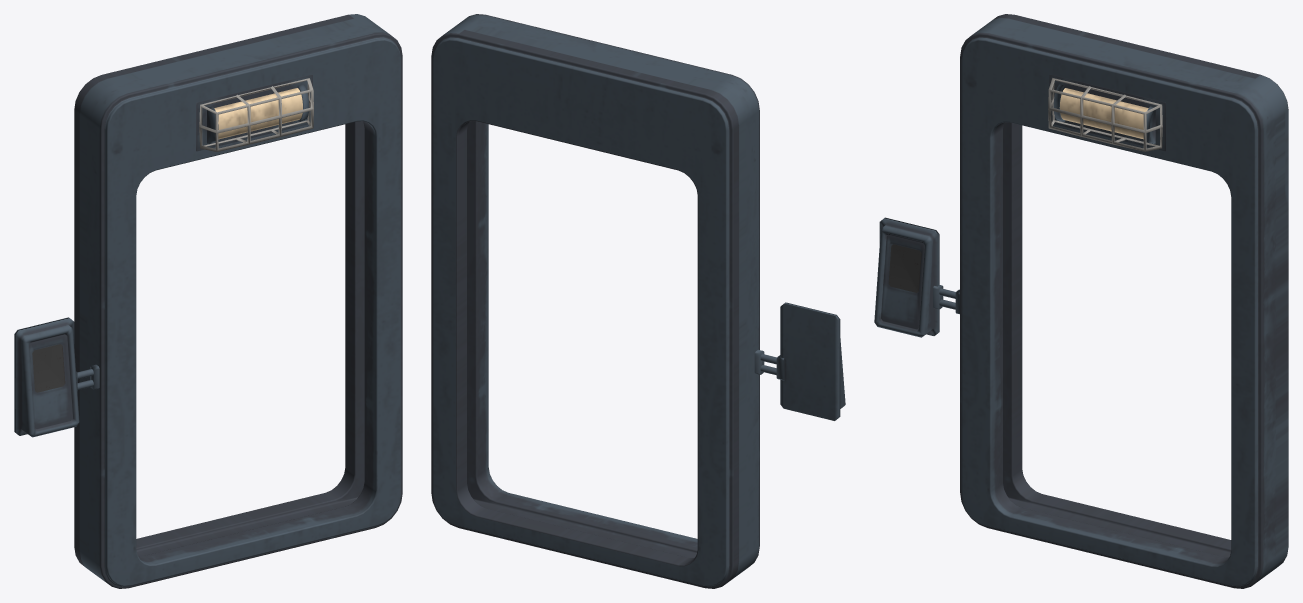
The model's file is GR_CM_BD_Door_Side_001.fbx.
3 views of the same model, side by side, from view 1: azimuth 30°, elevation 25°; view 2: azimuth 150°, elevation 25°; view 3: azimuth 330°, elevation 25° (orthographic).
Visible parts, largest first — view 1: door_lock_01_low.001; view 2: door_lock_01_low.001; view 3: door_lock_01_low.001.
Boxes of the visible parts, box(x1,y1,x2,y2) form: door_lock_01_low.001: box(14, 14, 402, 588); door_lock_01_low.001: box(431, 14, 845, 588); door_lock_01_low.001: box(874, 14, 1288, 588).
Size of the model in its own units: 208 by 256 by 40.88.
Materials: 1 (1 with a texture image).
